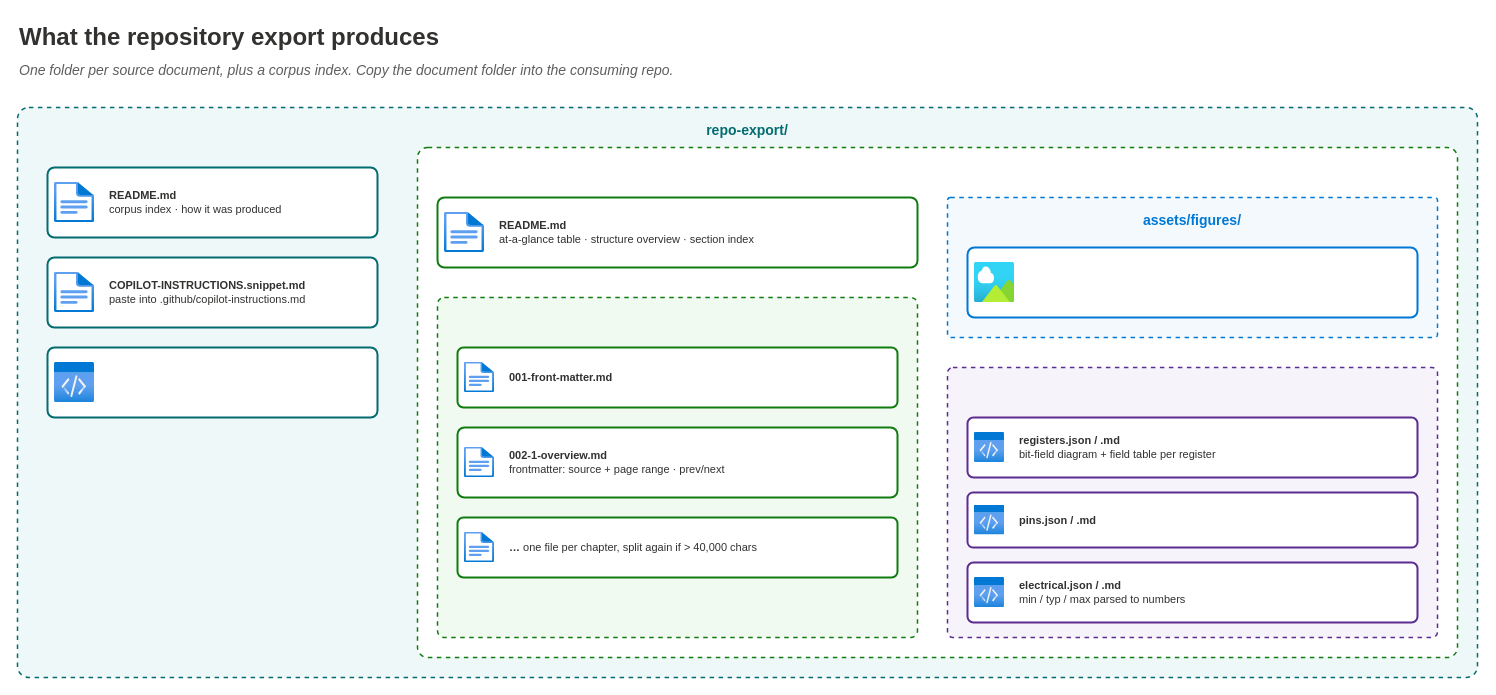
Image size: 1496x695. Some labels were removed from this diagram. The box of each missing label's shape, as (x1, y1, x2, y2) in pixels:
<document>/: (416, 146, 1458, 658)
fig-p0012-1.png original crop · name carries the ORIGINAL page: (966, 246, 1418, 318)
manifest.json source SHA-256 · page offsets · file hashes: (46, 346, 378, 418)
sections/: (436, 296, 918, 638)
structured/ — only when extractors are enabled: (946, 366, 1438, 638)
